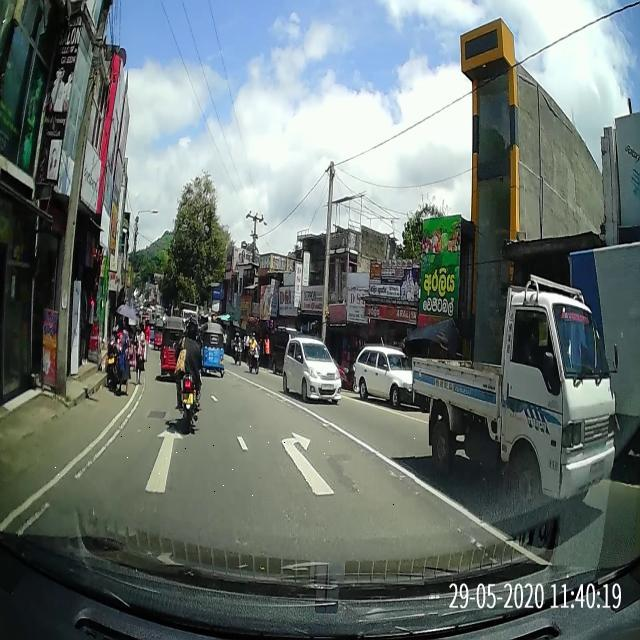forward: (40, 420, 269, 499)
right: (239, 424, 415, 508)
